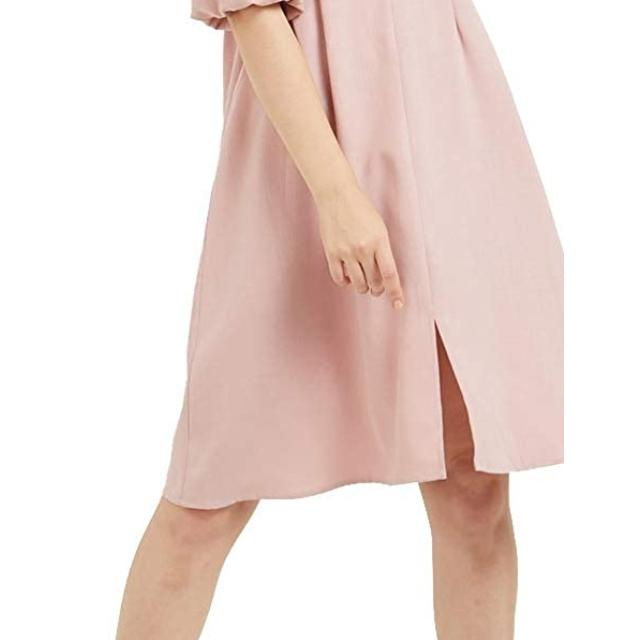polyester: (172, 0, 564, 518)
